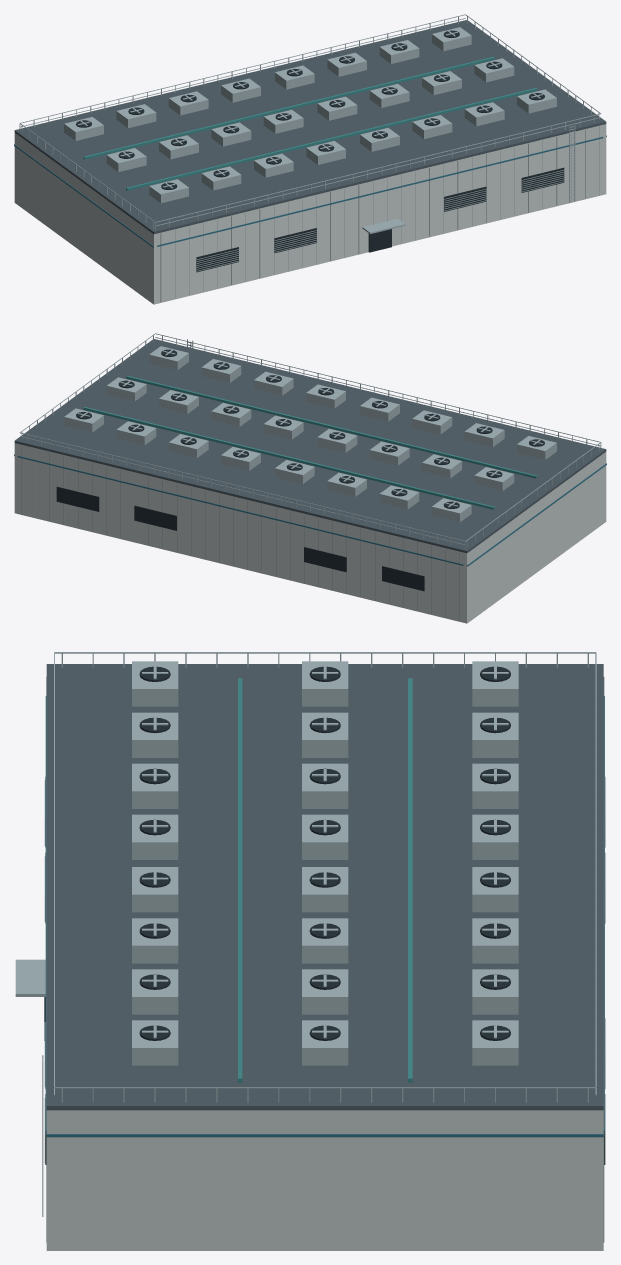
The model's file is land-datacenter.glb.
The picture shows the model from 3 angles, top to bottom: view 1: azimuth 30°, elevation 25°; view 2: azimuth 150°, elevation 25°; view 3: azimuth 270°, elevation 25°; orthographic projection. The views are drawn at different scales.
Parts seen in each view (by area): view 1: Building, RoofEquipment; view 2: Building, RoofEquipment; view 3: Building, RoofEquipment.
Part boxes in pixels (box(x1,y1,x2,y2)): Building: box(14, 14, 606, 304); RoofEquipment: box(64, 27, 556, 203); Building: box(14, 333, 606, 623); RoofEquipment: box(64, 346, 556, 522); Building: box(15, 652, 605, 1250); RoofEquipment: box(132, 661, 518, 1082).
Bounding box in the file's own units: 64 × 12 × 36.
